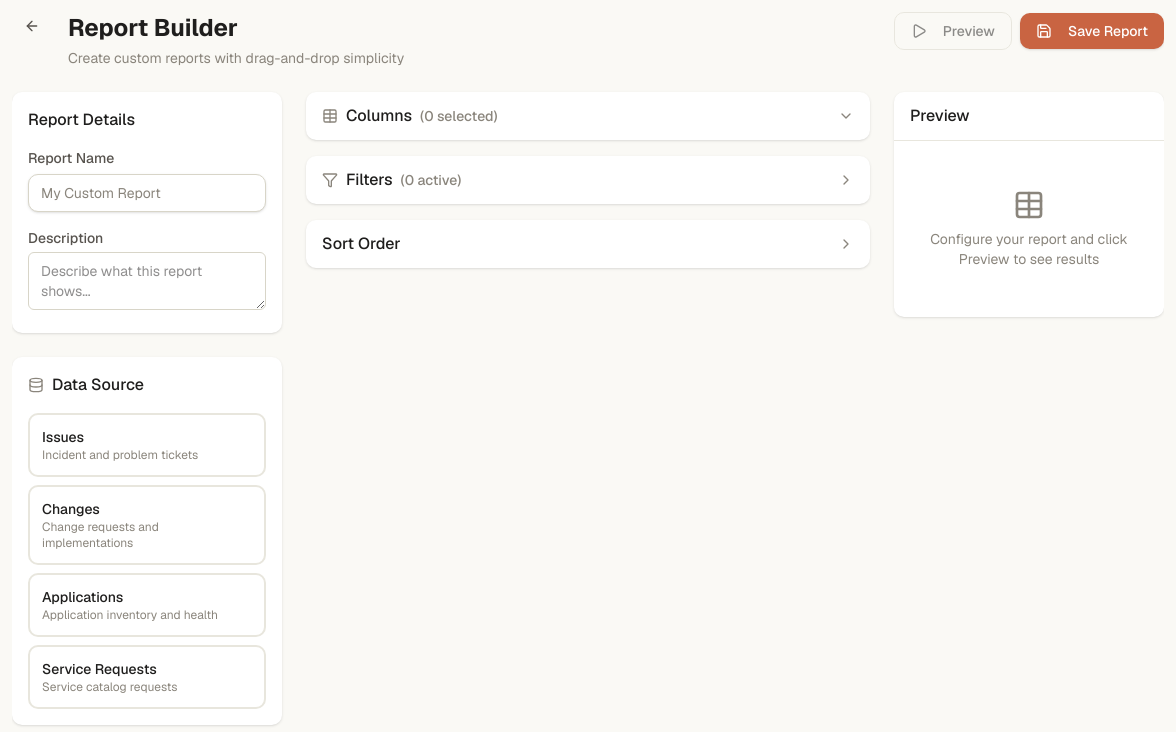
ReportBuilderPage › Columns Section › shows Available Fields when data source selected
What coordinates should you click on to do the following:
click the button "Issues Incident and problem tickets"
I would click on:
 (147, 445)
Its box is [28,413,266,477].
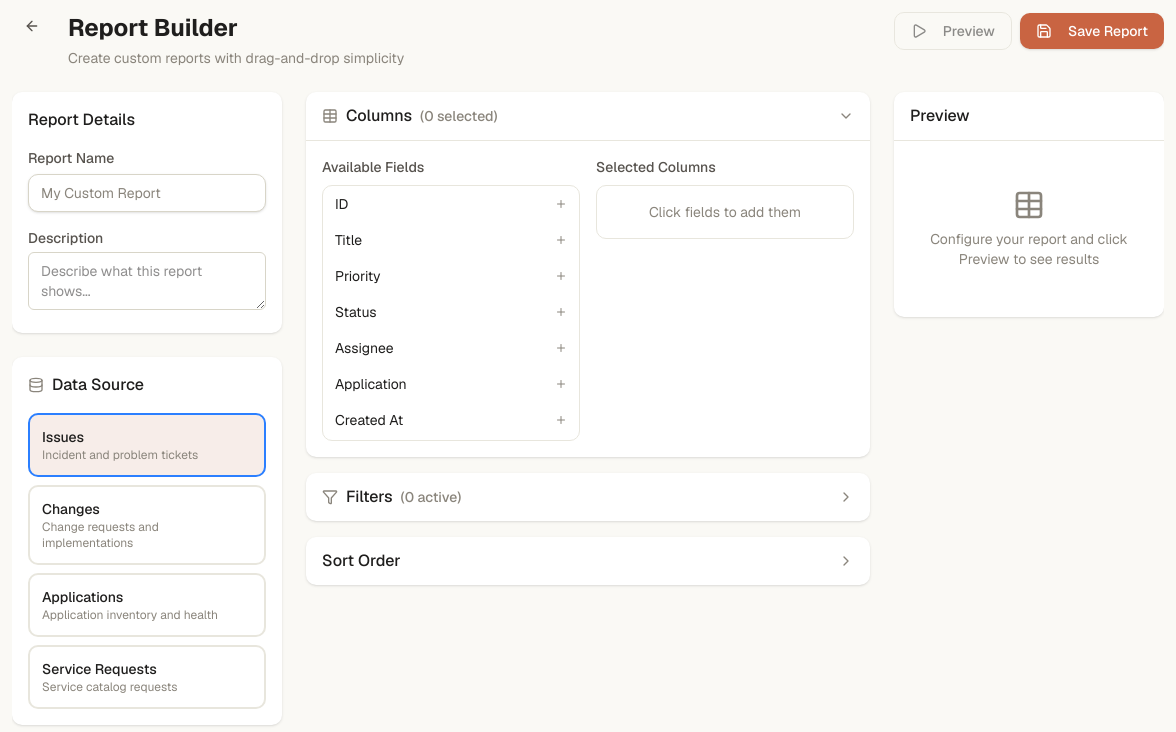
expect the heading "Available Fields" is shown: met, box [322,158,424,176]
